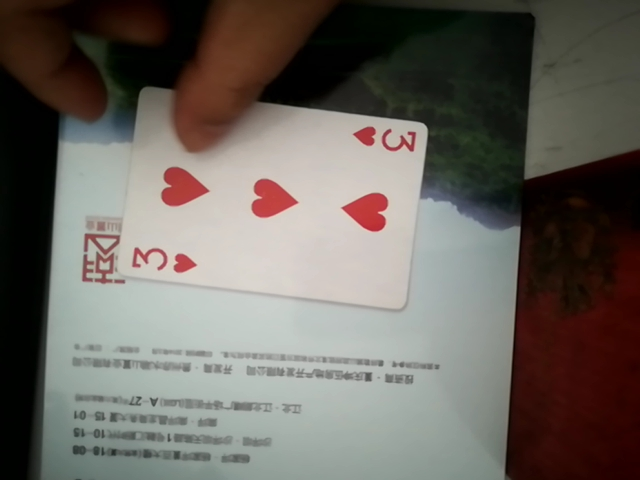hx 3: (93, 95, 434, 317)
